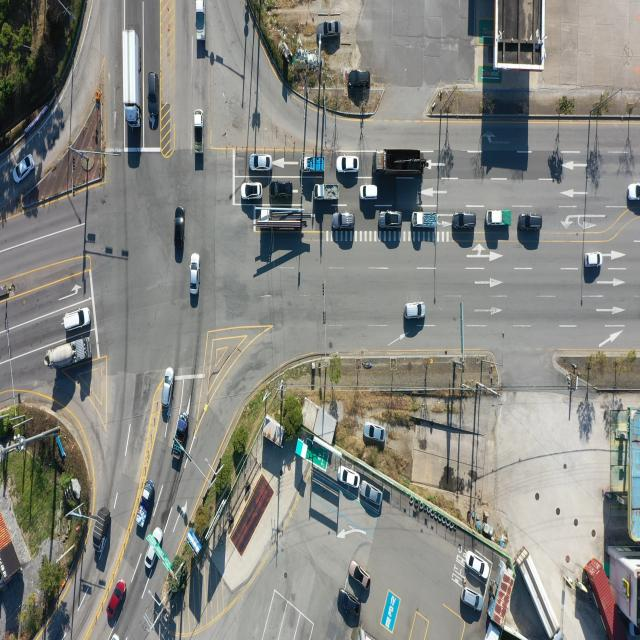car: (144, 526, 162, 568), (108, 581, 127, 619), (468, 551, 492, 581), (12, 155, 34, 185), (349, 561, 370, 592), (64, 308, 91, 332), (337, 589, 360, 616), (147, 71, 158, 121), (162, 368, 175, 409), (360, 482, 382, 506), (339, 465, 361, 488), (462, 588, 483, 612), (518, 213, 542, 231), (376, 211, 400, 229), (363, 423, 385, 442), (189, 254, 199, 294), (349, 69, 371, 87), (456, 212, 478, 230), (337, 157, 360, 174), (271, 184, 294, 201), (241, 182, 262, 200), (334, 212, 356, 229), (354, 65, 375, 82), (250, 156, 272, 172), (406, 303, 426, 320), (359, 183, 377, 200), (323, 22, 340, 38), (585, 252, 603, 267), (628, 182, 640, 200)
medium_truck: (519, 545, 563, 637), (125, 28, 142, 128), (46, 336, 91, 371), (373, 151, 422, 178)
small_truck: (136, 479, 155, 530), (91, 504, 109, 552), (175, 412, 192, 459), (314, 182, 339, 201), (412, 211, 438, 229), (188, 530, 204, 559), (486, 209, 511, 227), (303, 157, 327, 175), (195, 0, 205, 43), (194, 109, 203, 152), (176, 206, 185, 245)
